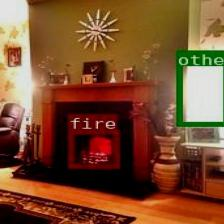fire: (66, 130, 118, 167)
